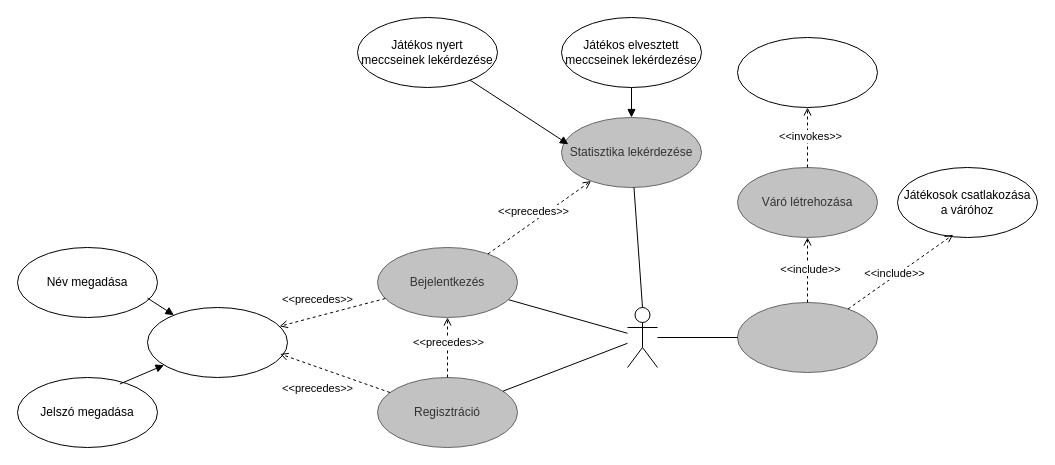
The diagram is 1055 pixels wide and 465 high, and some of its shapes have lost their labels. Each missing label, with the centre of its shape:
Adatok megadása: the point at 217,342
Csatlakozási kód generálás: the point at 807,72
Játékos: the point at 642,337
Új játék: the point at 807,337
